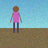person: (10, 6, 22, 32)
